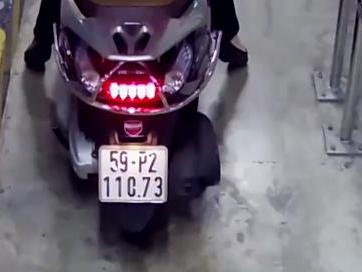num_plate: (98, 144, 168, 201)
